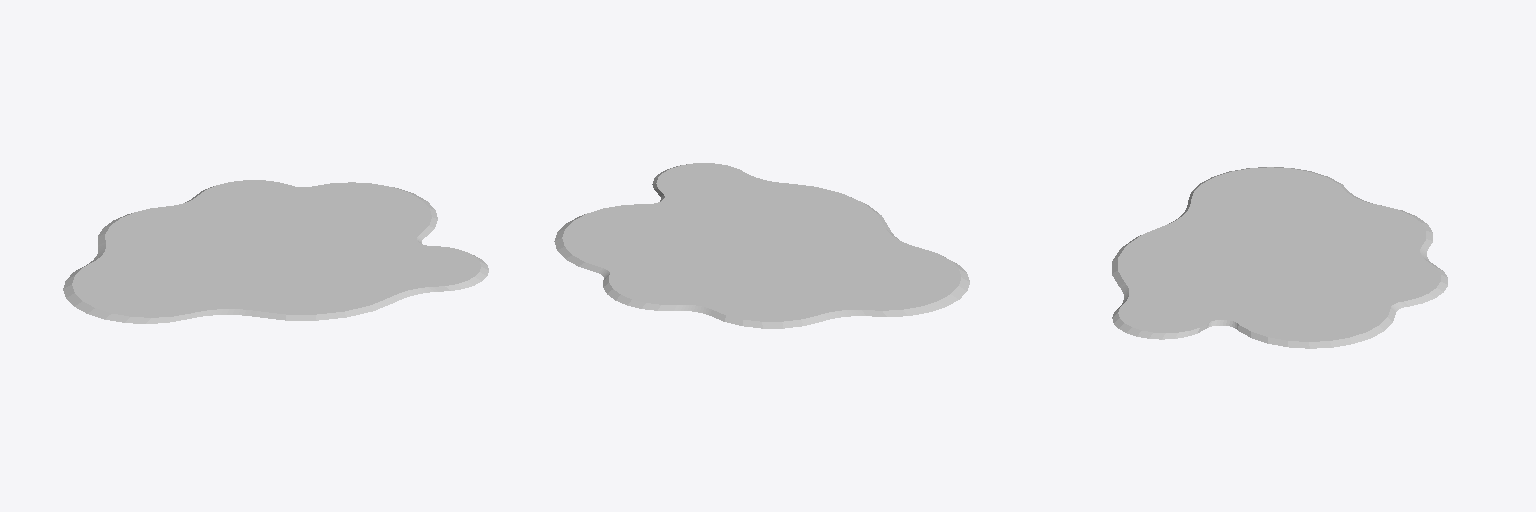
Rendered from snowPatch.obj.
3 renders of one model, left to right at view 1: azimuth 30°, elevation 25°; view 2: azimuth 150°, elevation 25°; view 3: azimuth 270°, elevation 25°, orthographic.
Parts seen in each view (by area): view 1: snowPatch; view 2: snowPatch; view 3: snowPatch.
Part boxes in pixels (bbox=[...]): snowPatch: bbox=[63, 180, 488, 323]; snowPatch: bbox=[554, 163, 969, 328]; snowPatch: bbox=[1112, 167, 1447, 348].
Bounding box in the file's own units: 3.26 × 0.03 × 2.55.